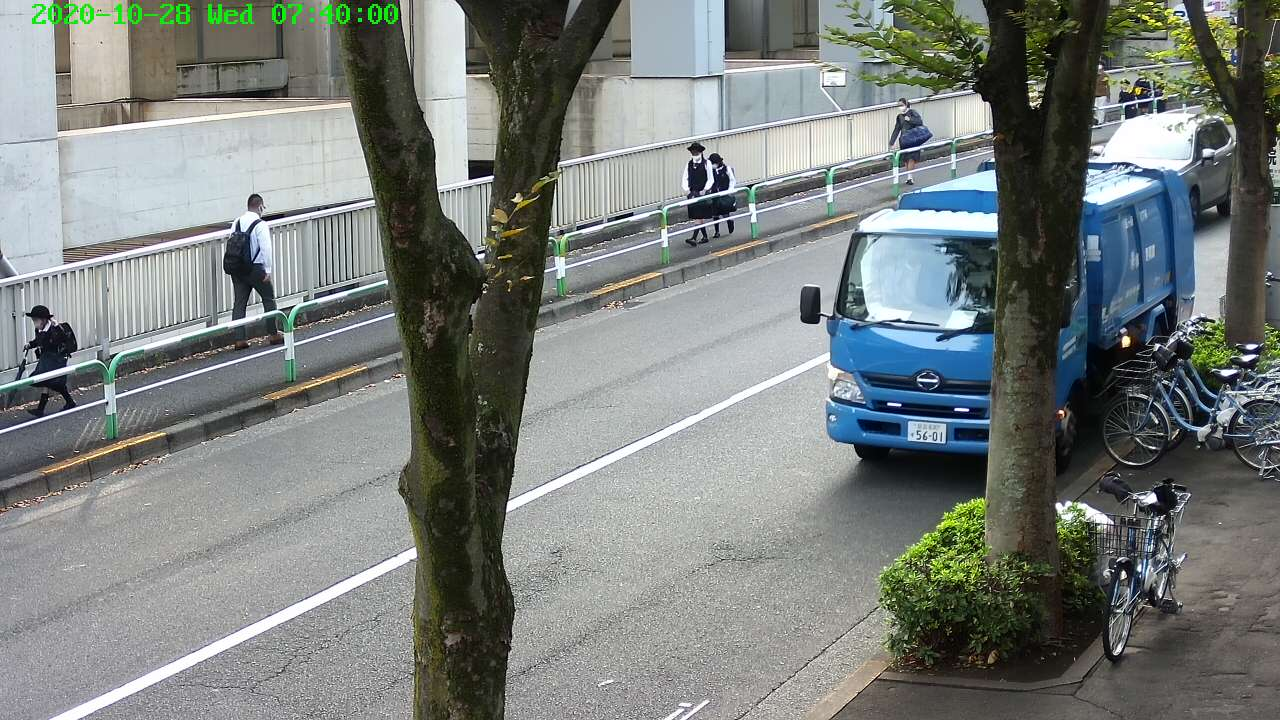number_plate: (908, 421, 949, 444)
